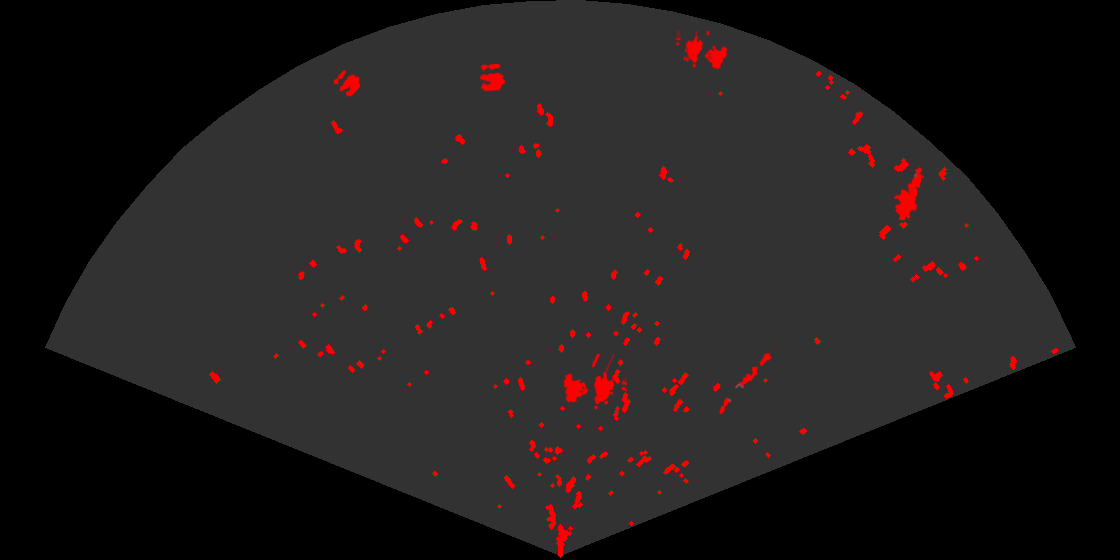ball: (477, 62, 507, 93), (332, 69, 362, 98)
cage: (562, 354, 627, 411), (676, 31, 729, 71)
chain: (717, 343, 778, 416)
frogman: (892, 165, 924, 220)
